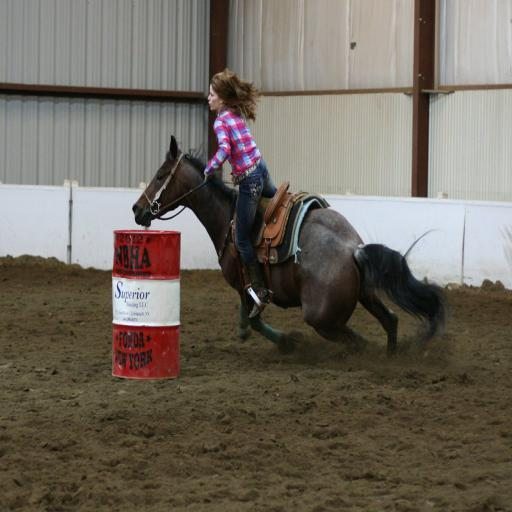horse: (132, 136, 454, 366)
